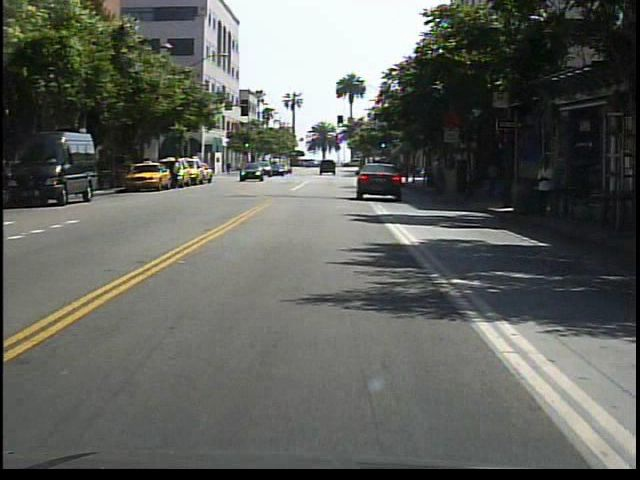person: (532, 150, 565, 225), (169, 156, 186, 192)
